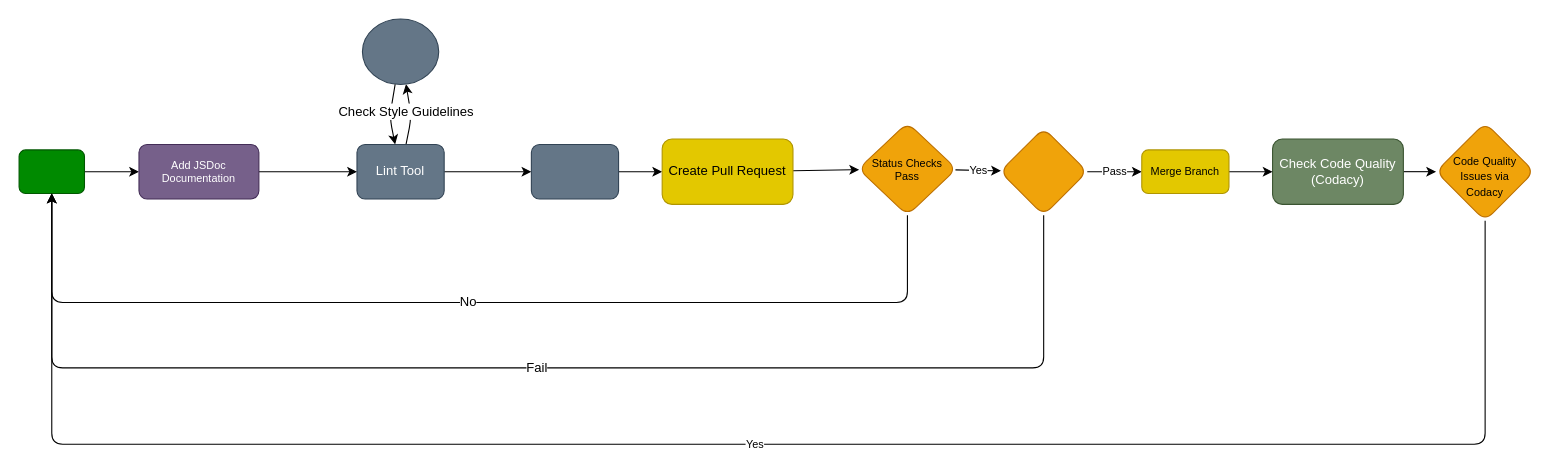
The diagram is 1553 pixels wide and 472 high, and some of its shapes have lost their labels. Here are the shapes that lost their labels. From the top down, the centre of each, then its label:
the point at 400,51: Code Style Docs
the point at 51,171: Code
the point at 574,171: Create Unit Tests (Mocha)
the point at 1043,171: Human Review
